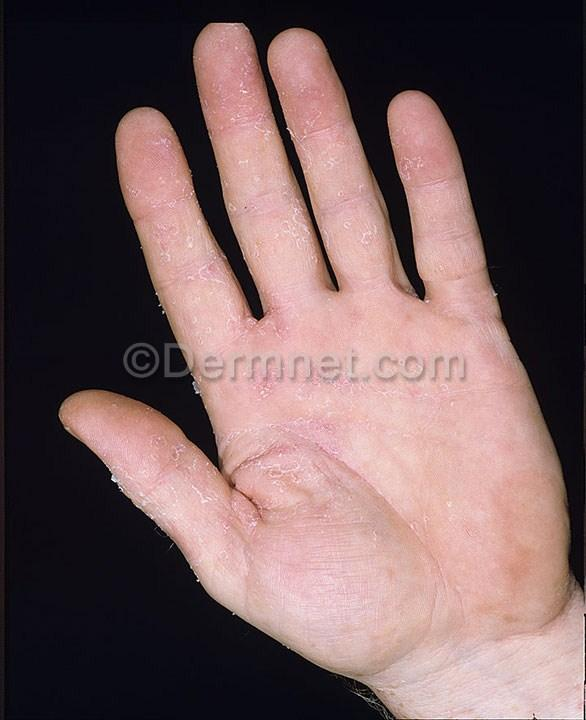Eczema: (179, 15, 284, 134), (116, 125, 205, 226), (139, 232, 238, 319), (247, 427, 353, 490), (291, 96, 353, 187), (374, 374, 490, 421), (386, 138, 456, 206), (143, 428, 208, 501), (246, 366, 317, 415), (259, 196, 318, 251), (228, 494, 283, 553), (233, 305, 304, 347), (306, 364, 375, 405), (340, 214, 392, 264)
